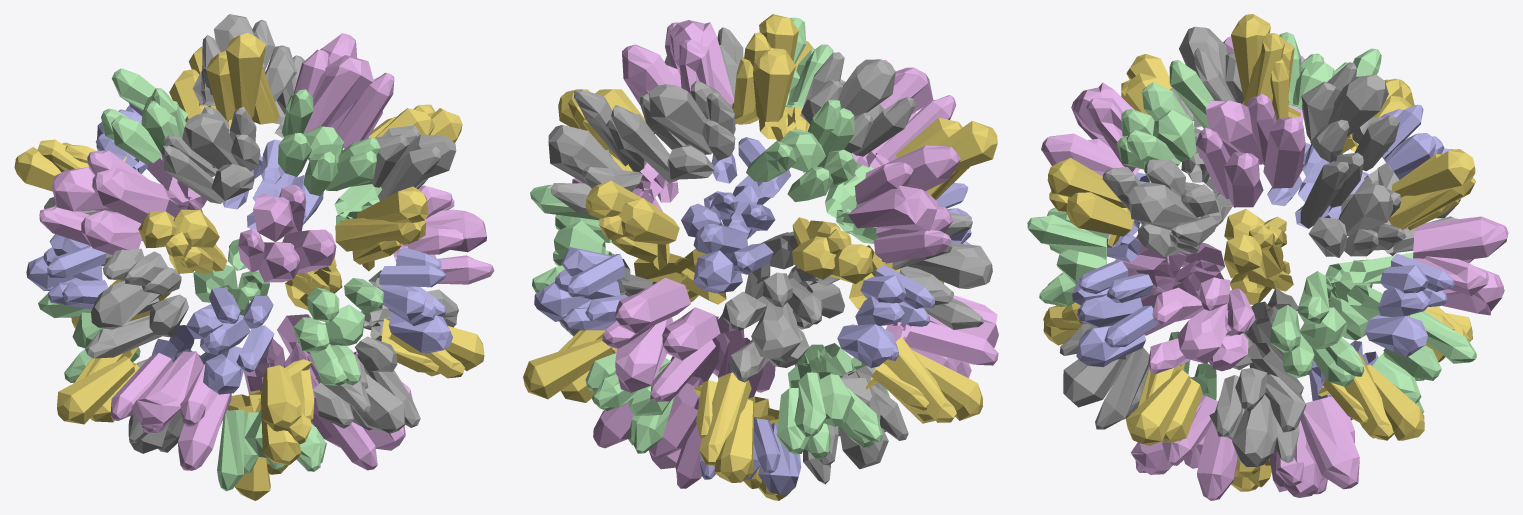
The model's file is crystals_test.fbx.
3 renders of one model, left to right at view 1: azimuth 30°, elevation 25°; view 2: azimuth 150°, elevation 25°; view 3: azimuth 270°, elevation 25°, orthographic. The views are drawn at different scales.
Visible parts, largest first — view 1: Crystals9, Crystals5, Crystals1, Crystals2, Crystals3; view 2: Crystals1, Crystals9, Crystals5, Crystals2, Crystals3; view 3: Crystals9, Crystals1, Crystals5, Crystals2, Crystals3.
Boxes of the visible parts, bbox=[...] form: Crystals9: bbox=[39, 33, 494, 470]; Crystals5: bbox=[14, 33, 484, 500]; Crystals1: bbox=[44, 14, 458, 453]; Crystals2: bbox=[38, 68, 383, 491]; Crystals3: bbox=[26, 103, 452, 394]; Crystals1: bbox=[548, 27, 992, 484]; Crystals9: bbox=[572, 20, 998, 488]; Crystals5: bbox=[523, 14, 997, 500]; Crystals2: bbox=[530, 17, 889, 460]; Crystals3: bbox=[534, 137, 971, 494]; Crystals9: bbox=[1041, 36, 1508, 500]; Crystals1: bbox=[1059, 26, 1460, 466]; Crystals5: bbox=[1043, 14, 1475, 491]; Crystals2: bbox=[1027, 32, 1476, 418]; Crystals3: bbox=[1072, 104, 1455, 420].
Size of the model in its own units: 1.64 by 1.8 by 1.66.
